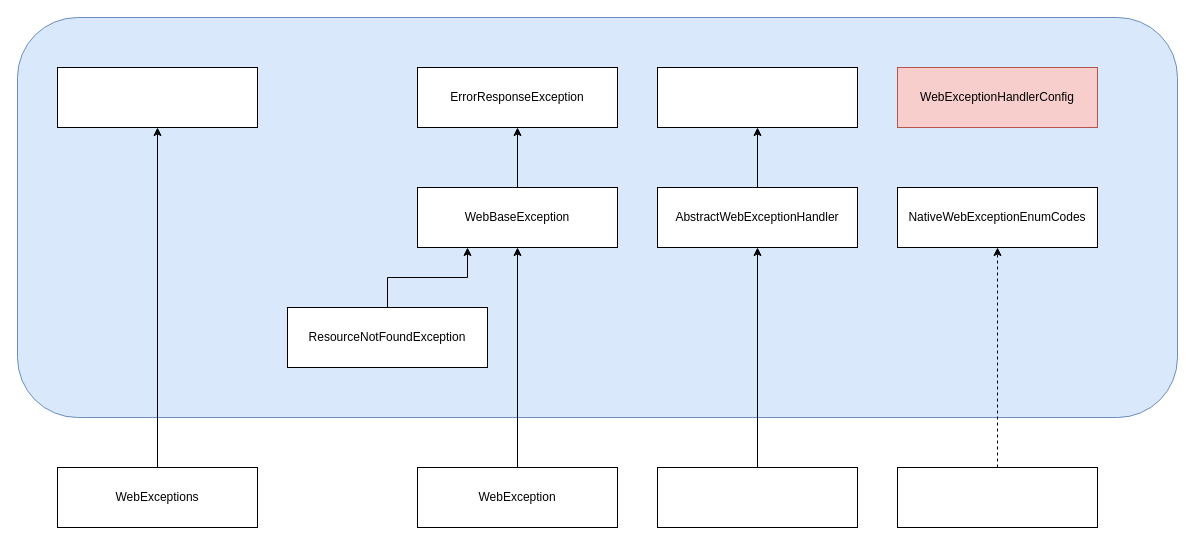
Some shapes in this 1195 by 545 pixel diagram are drawn without their labels. Here are the shapes that lost their labels. From the top down, the centre of each, then its label:
point 157,97: AbstractWebExceptions
point 757,97: ResponseEntityExceptionHandler
point 757,497: WebExceptionHandler
point 997,497: AppExceptionCodes
